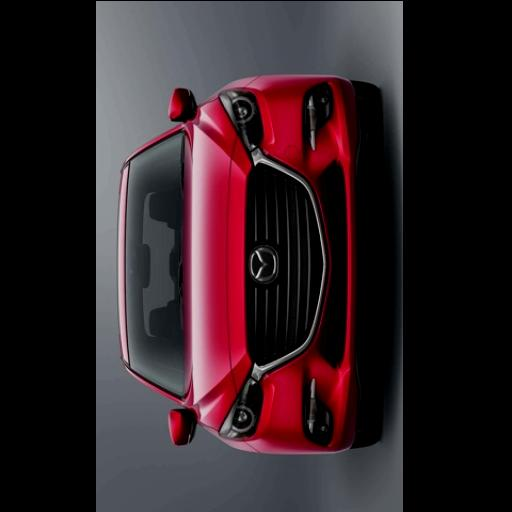hatchback: (121, 77, 378, 453)
